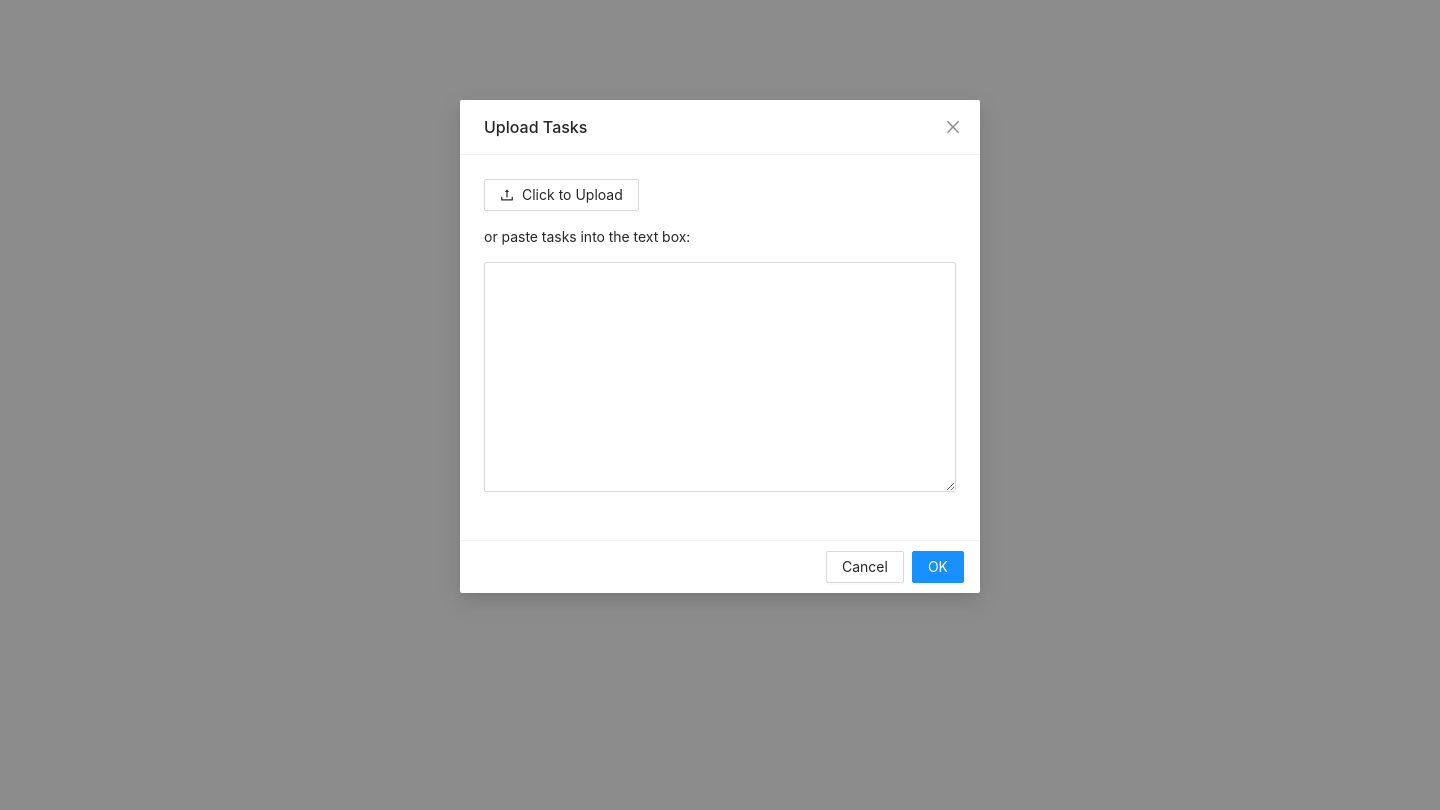
Test: TaskUploader › shows error on invalid JSON
Type "wrong JSON" into the text box with test id "tasks-json" at (720, 377), box [484,262,956,492]
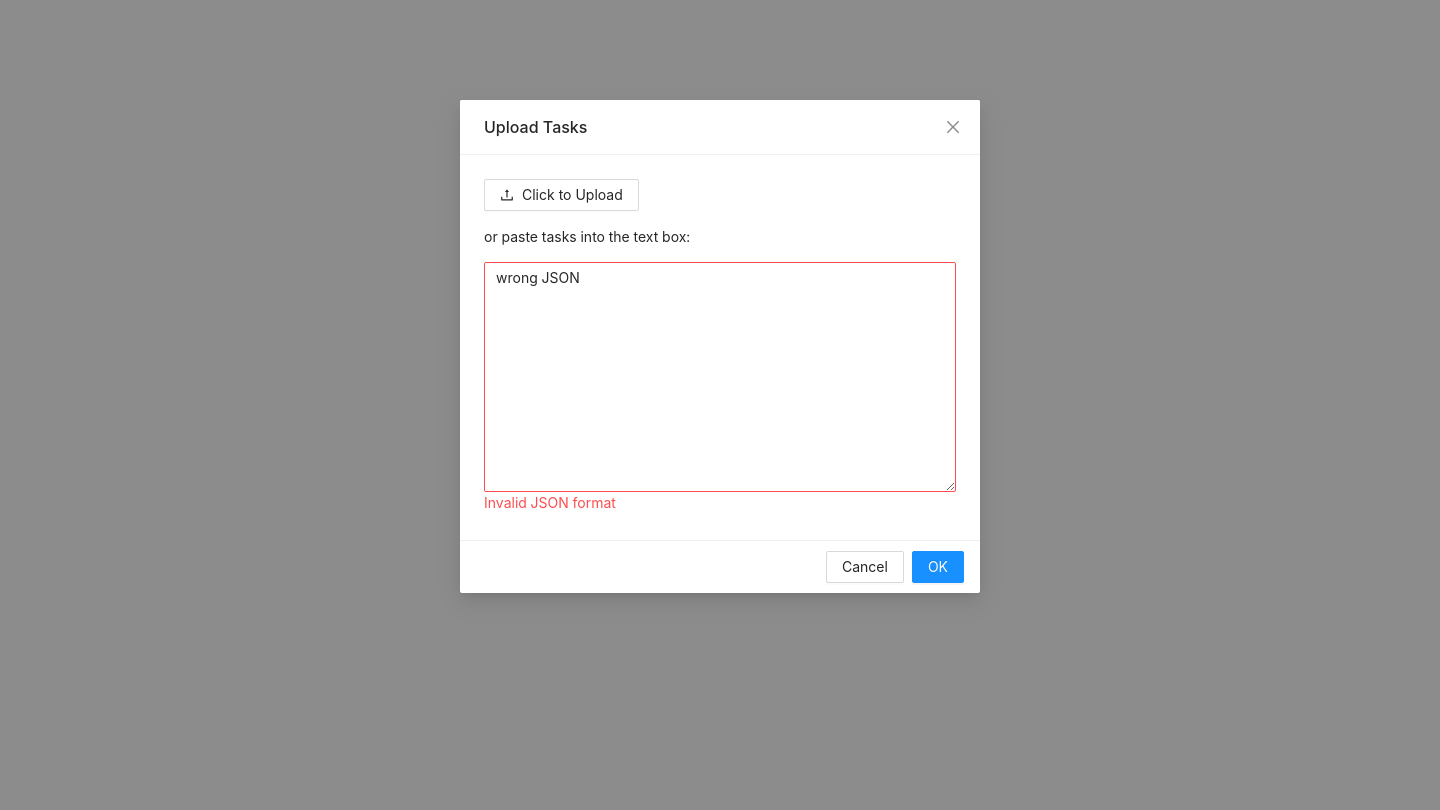
Result: the text "Invalid JSON format" is shown at [484,494,616,511]
